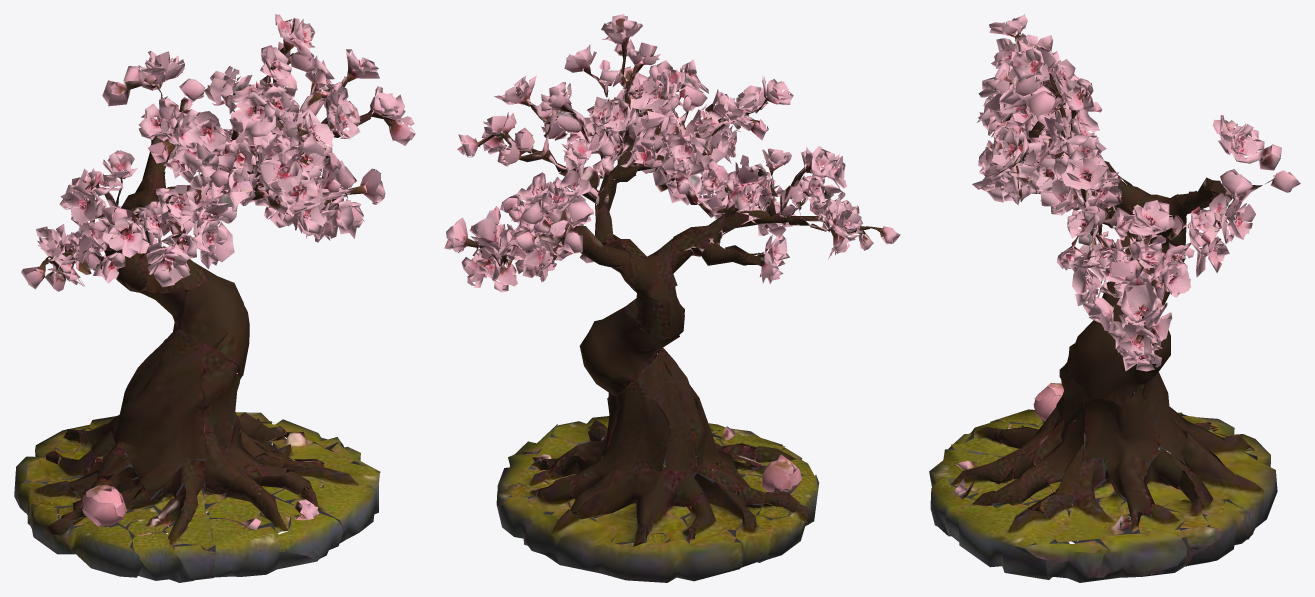
Rendered from blossom_tree.glb.
3 renders of one model, left to right at view 1: azimuth 30°, elevation 25°; view 2: azimuth 150°, elevation 25°; view 3: azimuth 270°, elevation 25°, orthographic. The views are drawn at different scales.
Parts seen in each view (by area): view 1: blossom_tree; view 2: blossom_tree; view 3: blossom_tree.
Part boxes in pixels (bbox=[...]): blossom_tree: bbox=[14, 14, 415, 582]; blossom_tree: bbox=[444, 14, 900, 582]; blossom_tree: bbox=[929, 14, 1300, 582].
Bounding box in the file's own units: 2.83 × 3.2 × 2.15.
Materials: 1 (1 with a texture image).
